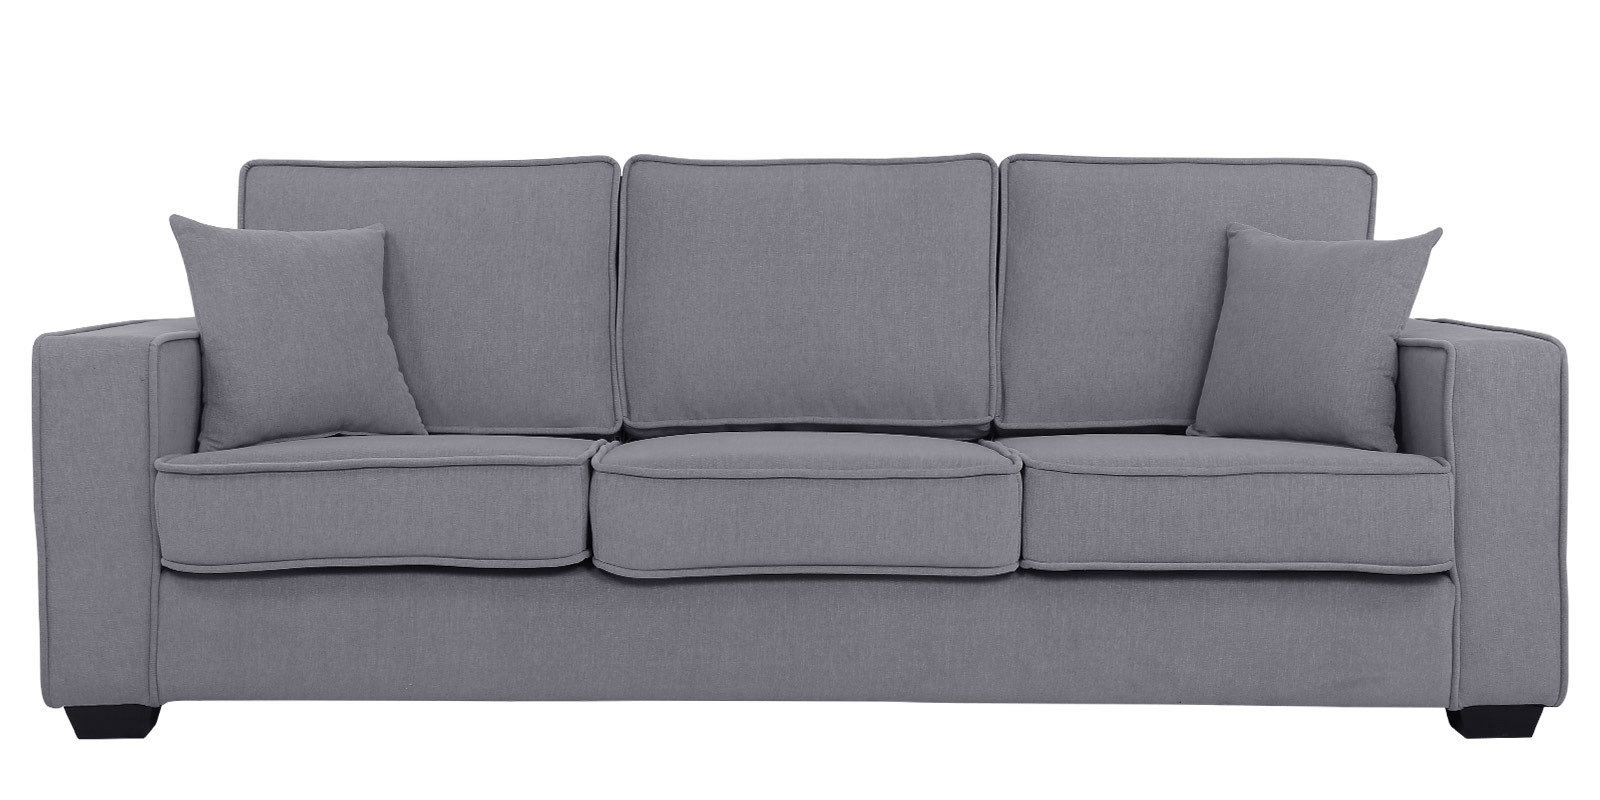Hugo Three Seater Sofa in Ash Grey Colour by CasaCraft: (11, 139, 1600, 762)
